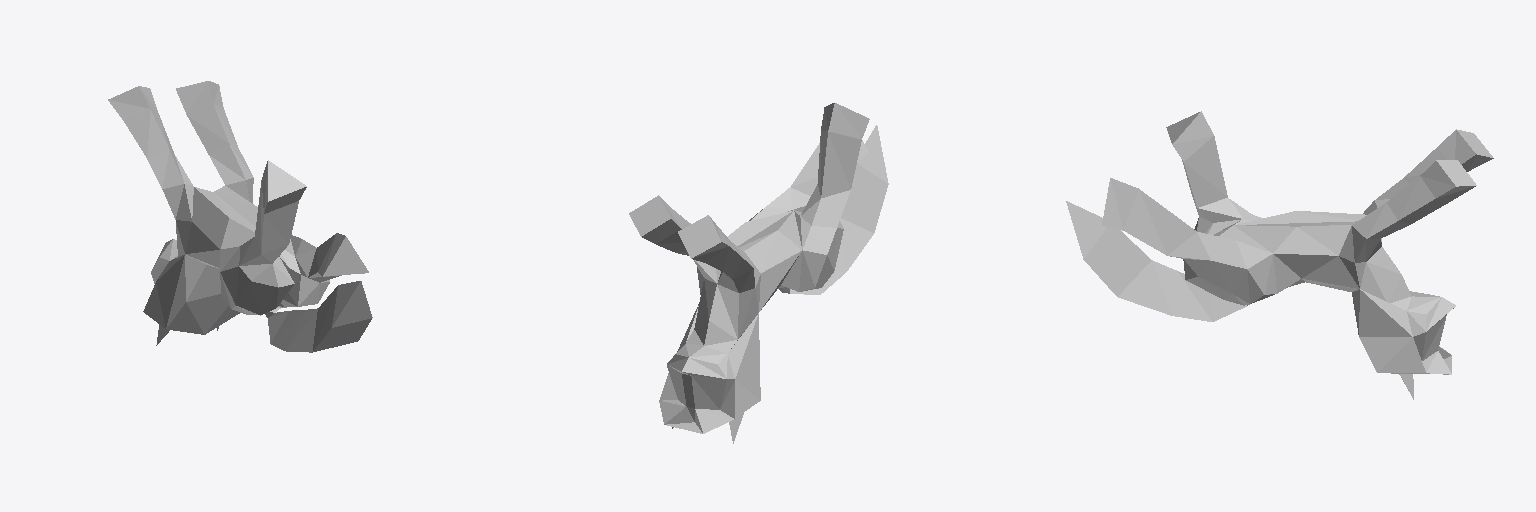
The model's file is PONY_000034.obj.
3 views of the same model, side by side, from view 1: azimuth 30°, elevation 25°; view 2: azimuth 150°, elevation 25°; view 3: azimuth 270°, elevation 25° (orthographic).
Parts seen in each view (by area): view 1: pony; view 2: pony; view 3: pony.
Part boxes in pixels (x1,y1,x2,y2): pony: (108, 81, 372, 352); pony: (629, 103, 888, 443); pony: (1066, 111, 1493, 399).
Size of the model in its own units: 3.5 by 8.57 by 12.66.